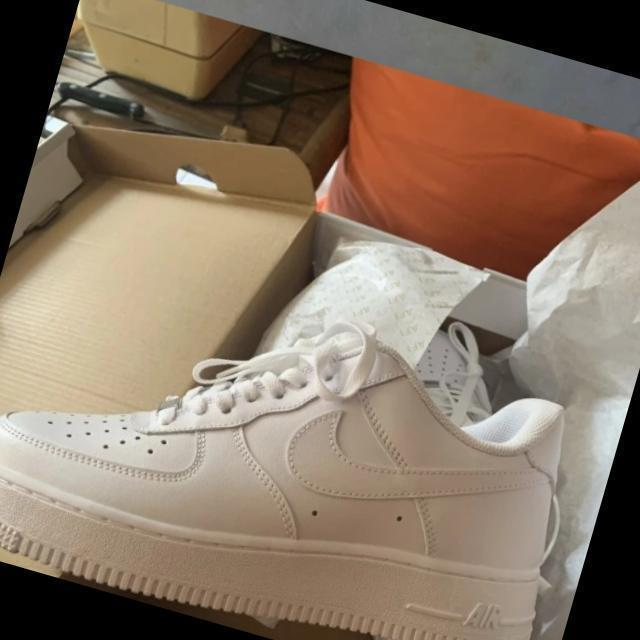nike original air force: (0, 232, 600, 640)
